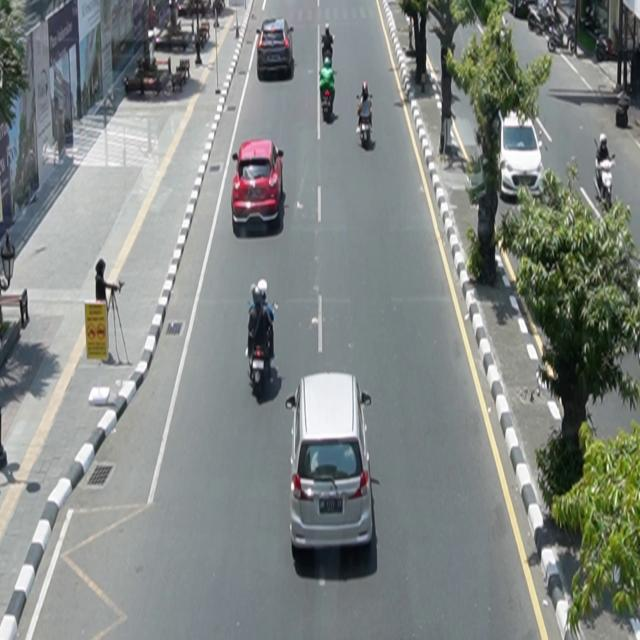car: (286, 372, 376, 556), (232, 139, 285, 227), (499, 108, 546, 203), (257, 18, 295, 81)
